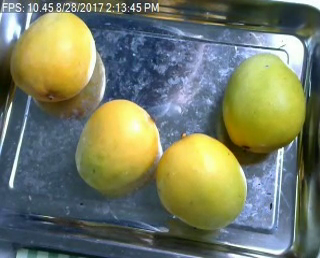Mango: (155, 133, 247, 229), (219, 52, 305, 152), (9, 9, 97, 101), (73, 99, 161, 190)
